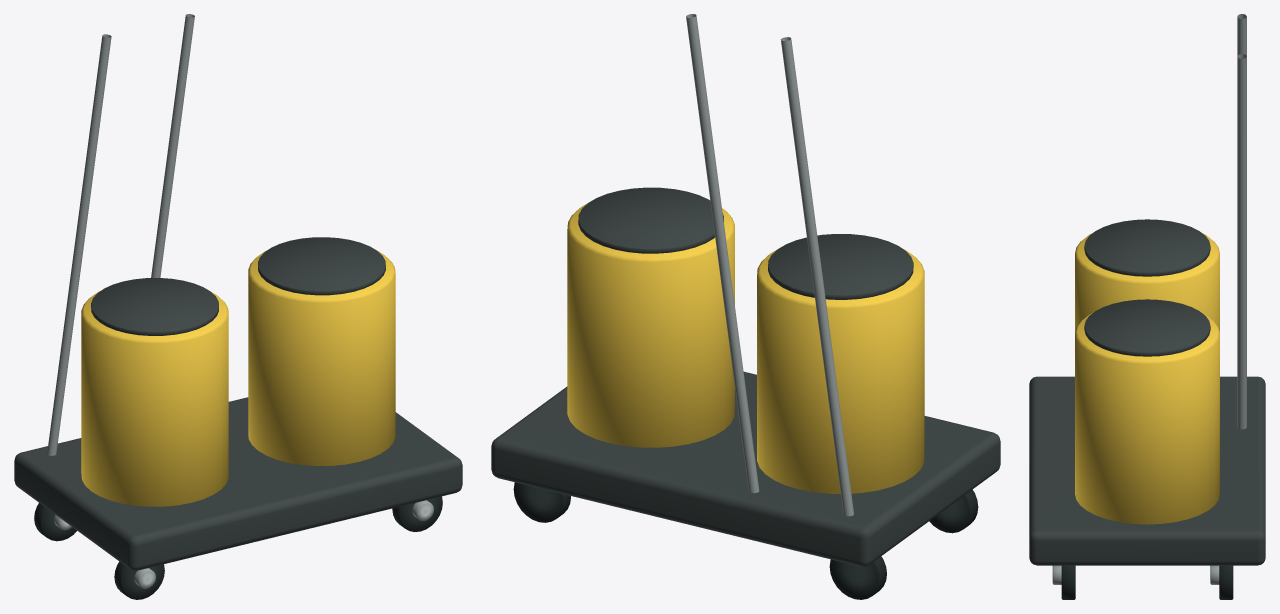
The model's file is SM_EG_CleaningTrolley_c2b95a7f36.fbx.
3 views of the same model, side by side, from view 1: azimuth 30°, elevation 25°; view 2: azimuth 150°, elevation 25°; view 3: azimuth 270°, elevation 25° (orthographic). The views are drawn at different scales.
Visible parts, largest first — view 1: SM_EG_CleaningTrolley_c2b95a7f36; view 2: SM_EG_CleaningTrolley_c2b95a7f36; view 3: SM_EG_CleaningTrolley_c2b95a7f36.
Part boxes in pixels (x1,y1,x2,y2): SM_EG_CleaningTrolley_c2b95a7f36: (14, 14, 462, 599); SM_EG_CleaningTrolley_c2b95a7f36: (491, 14, 1000, 599); SM_EG_CleaningTrolley_c2b95a7f36: (1029, 14, 1265, 599).
Size of what is drawn, in the model's own units: 120 by 75 by 166.
